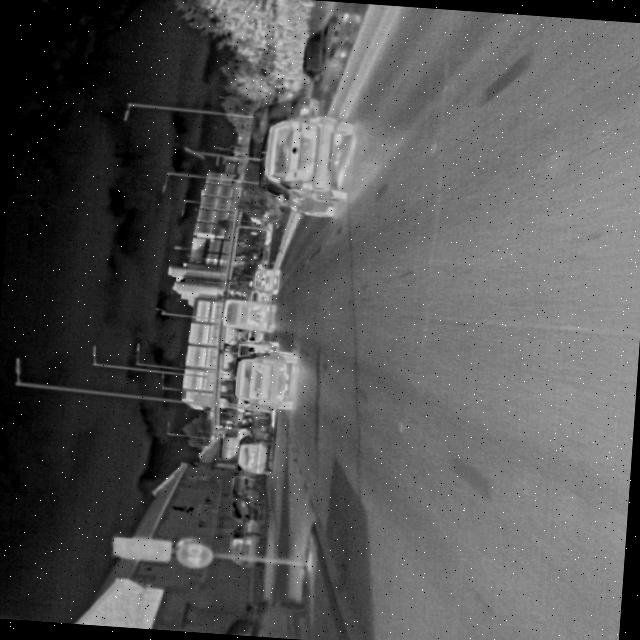Vehicle: (254, 109, 356, 219), (296, 5, 369, 106), (229, 345, 300, 412), (220, 296, 280, 334), (228, 514, 268, 570), (234, 424, 276, 476), (250, 264, 283, 294)
